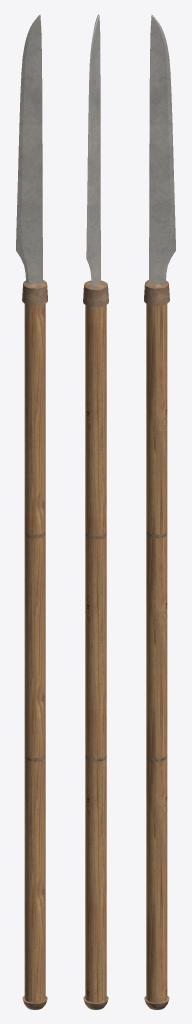
The model's file is ReinforcedIronSpear.glb.
3 views of the same model, side by side, from view 1: azimuth 90°, elevation 25°; view 2: azimuth 150°, elevation 25°; view 3: azimuth 270°, elevation 25° (orthographic).
Parts seen in each view (by area): view 1: spearsword2; view 2: spearsword2; view 3: spearsword2.
Boxes of the visible parts, left/top/right/bottom form: spearsword2: left=16, top=14, right=47, bottom=1009; spearsword2: left=83, top=14, right=108, bottom=1009; spearsword2: left=144, top=14, right=175, bottom=1009.
Size of the model in its own units: 0.0453 by 1.9 by 0.0561.
Materials: 1 (1 with a texture image).
